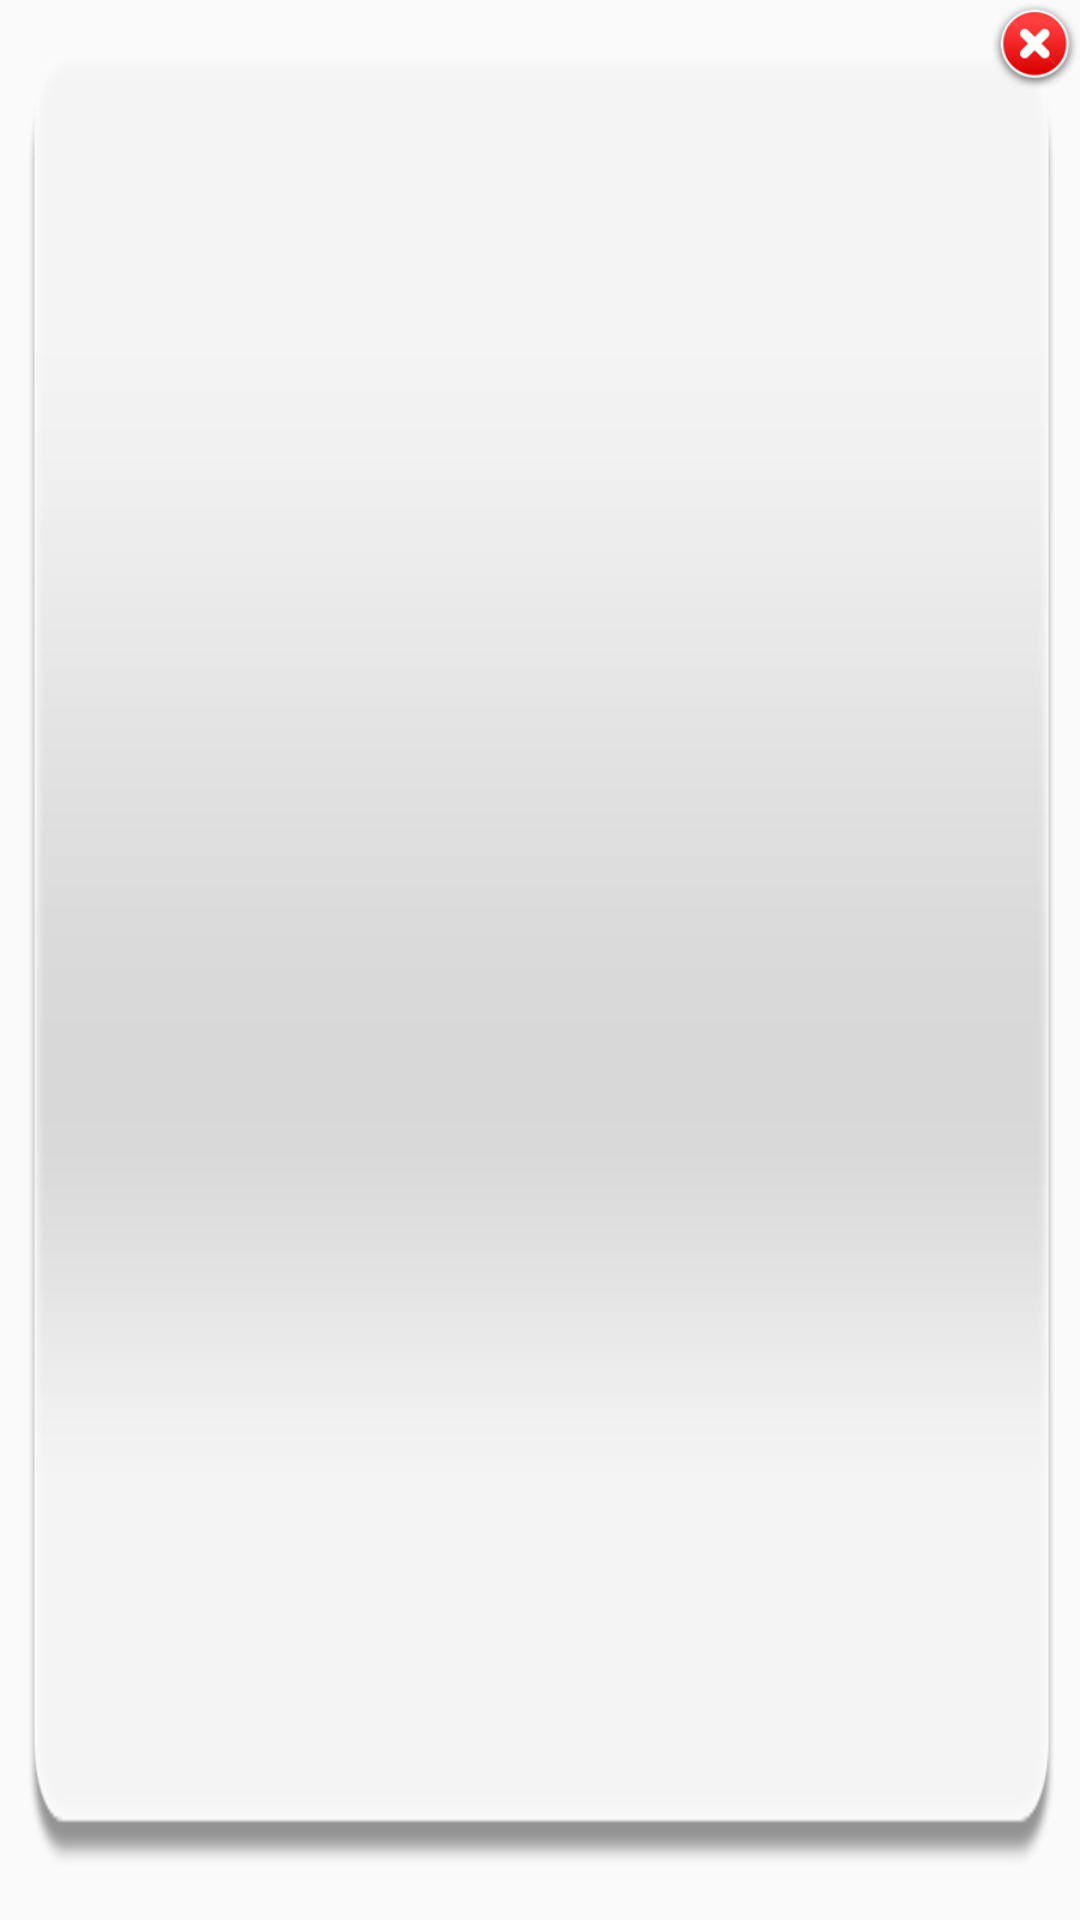

Named icons in this screenshot (1080 × 1920) and their centers, (x,y):
close select: (1035,46)
